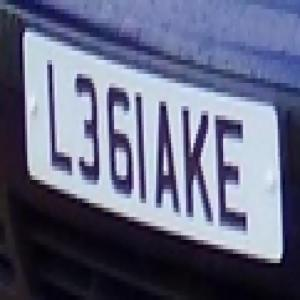Plate: (17, 14, 291, 272)
